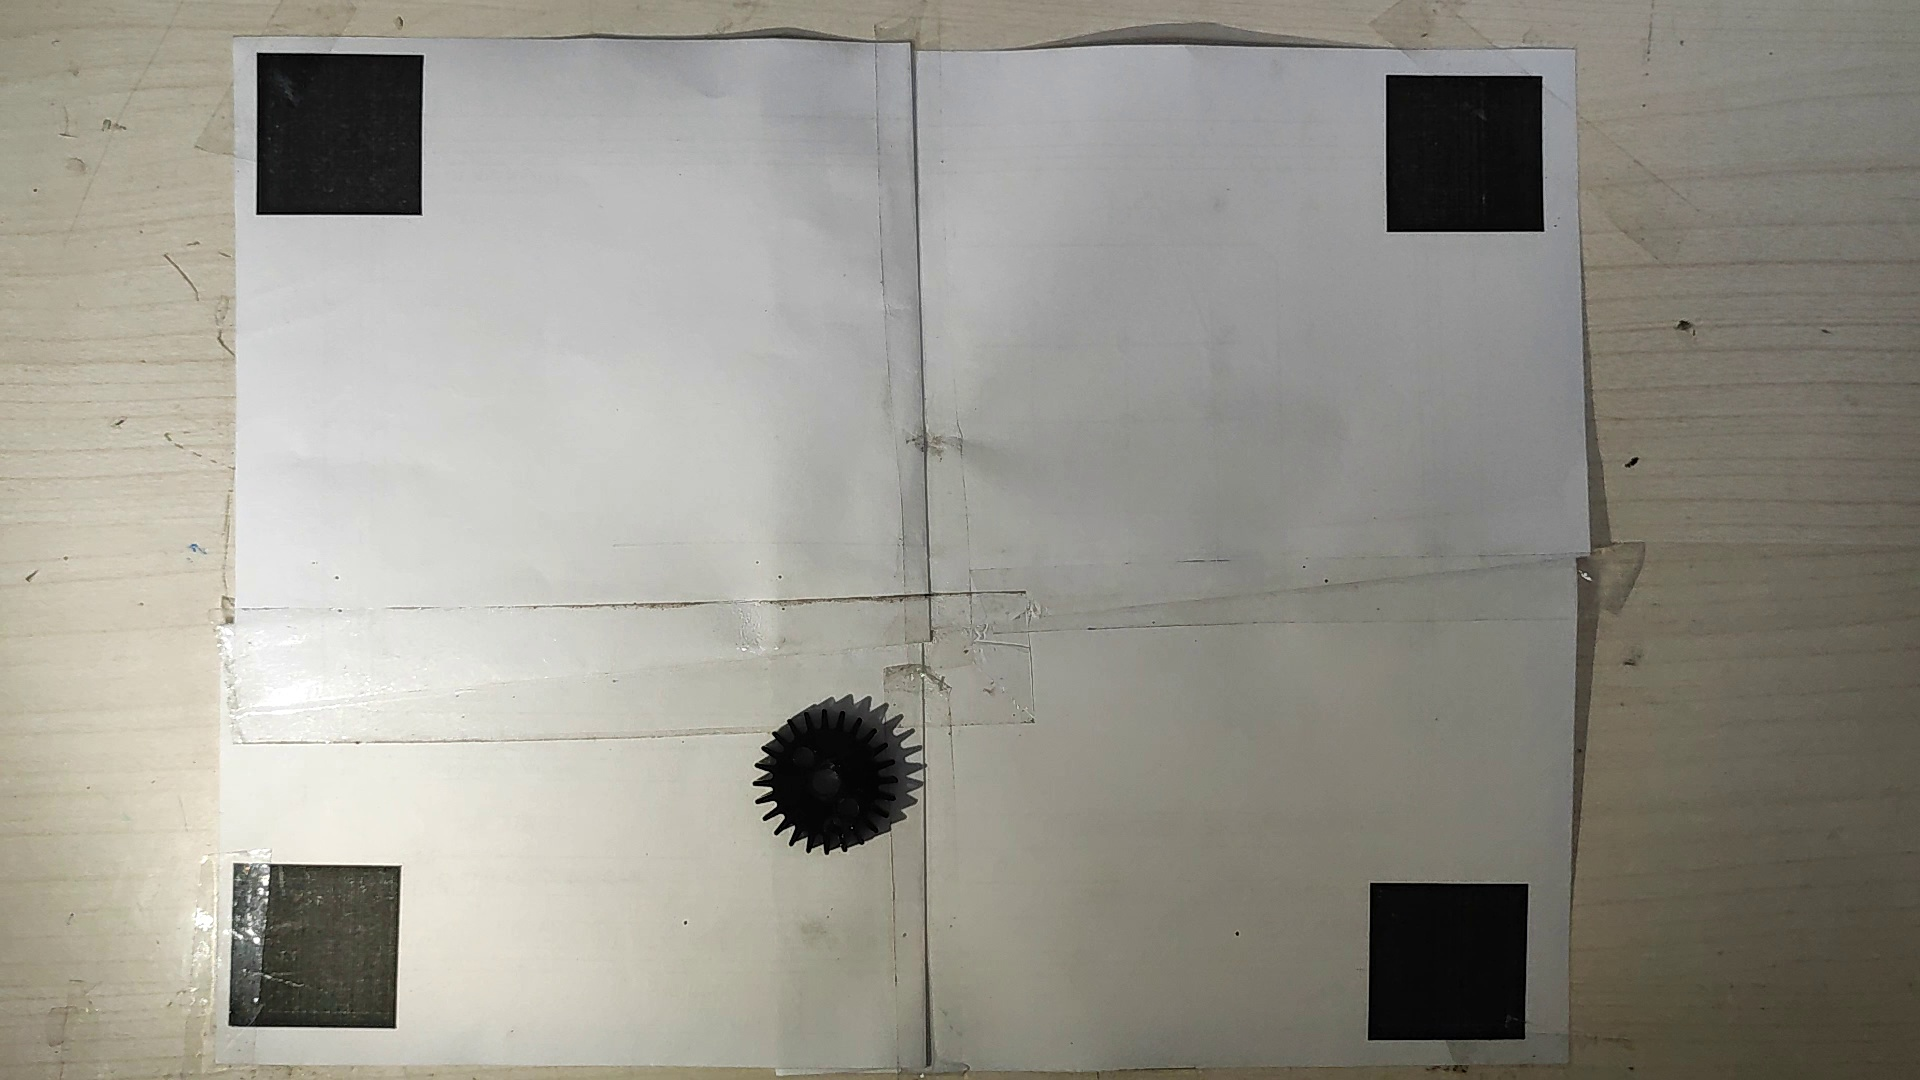Gear: (752, 700, 905, 856)
